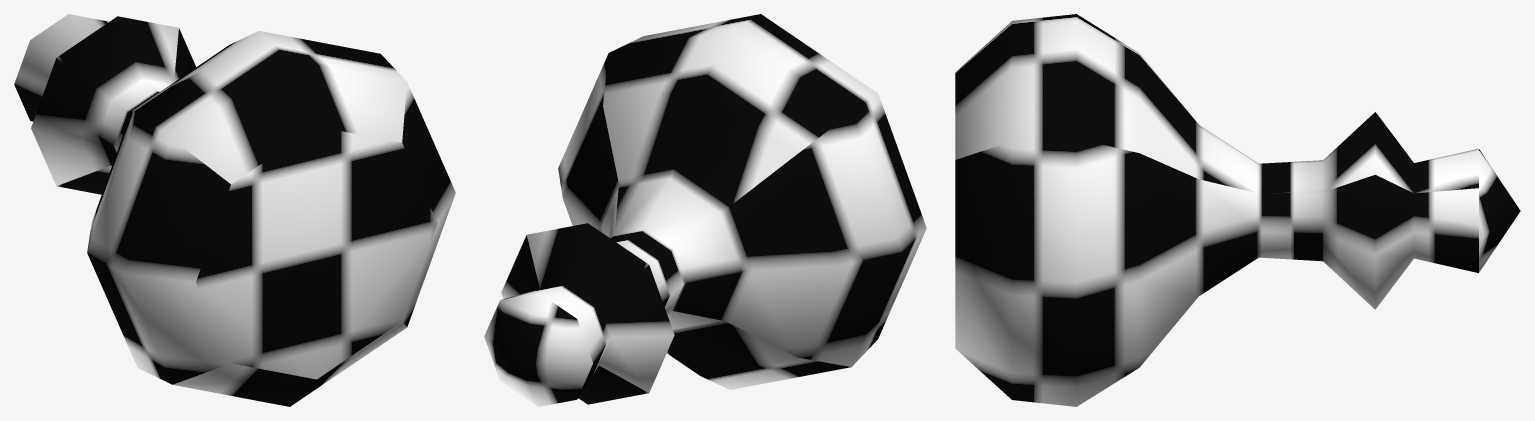
Rendered from initqi21.dae.
3 renders of one model, left to right at view 1: azimuth 30°, elevation 25°; view 2: azimuth 150°, elevation 25°; view 3: azimuth 270°, elevation 25°, orthographic. The views are drawn at different scales.
Visible parts, largest first — view 1: item; view 2: item; view 3: item.
Part boxes in pixels (box(x1,y1,x2,y2)): item: box(14, 14, 455, 406); item: box(484, 14, 926, 406); item: box(955, 14, 1520, 406).
Size of the model in its own units: 1.07 by 1.45 by 1.07.
1 material, 1 textured.
